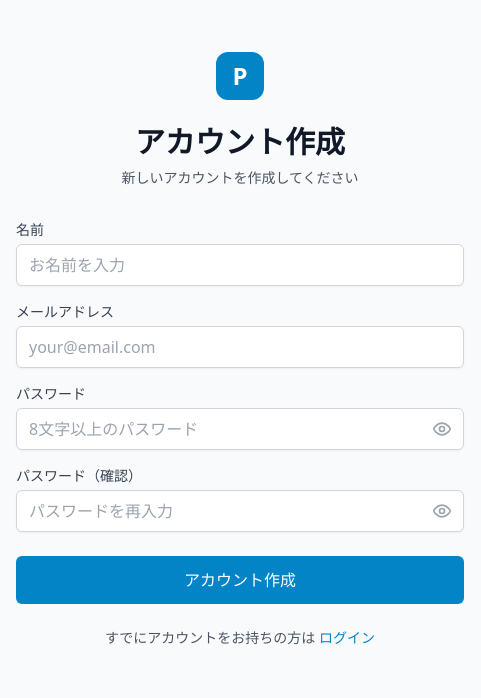
Test: Authentication › RegisterPage › validates password confirmation
Step 1. Type "password123" into the password field labelled "パスワード" → (240, 429), box [16,408,464,450]
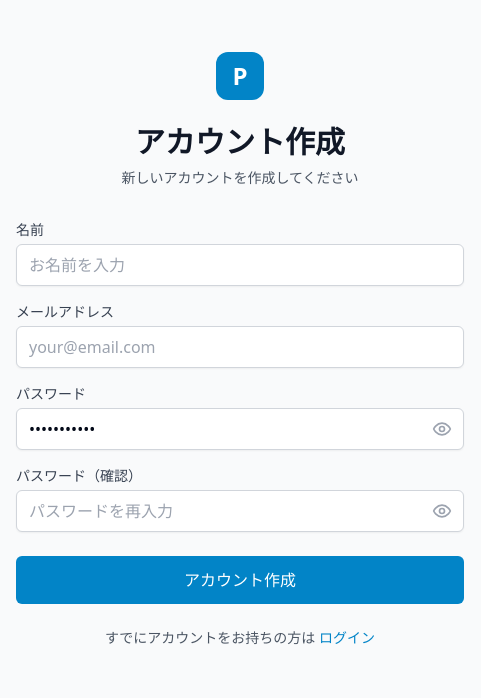
Step 2. Type "differentpassword" into the password field labelled "パスワード（確認）" → (240, 511), box [16,490,464,532]
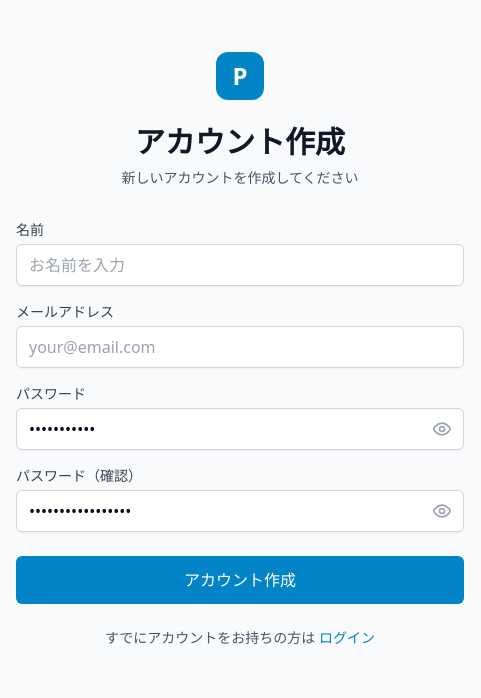
Step 3. Click the button "アカウント作成" → (240, 580), box [16,556,464,604]
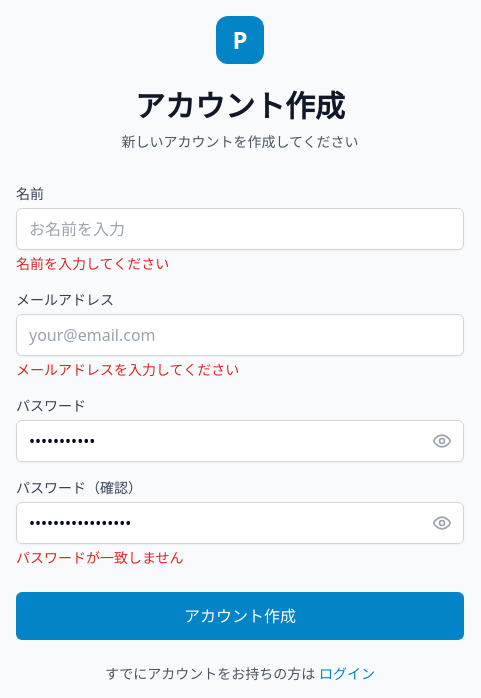
Now the text "パスワードが一致しません" is shown, box [16,548,184,567]
